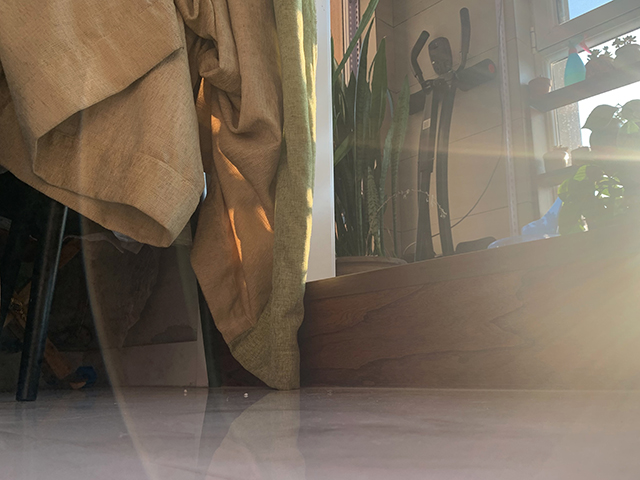curtain: (1, 1, 319, 391)
